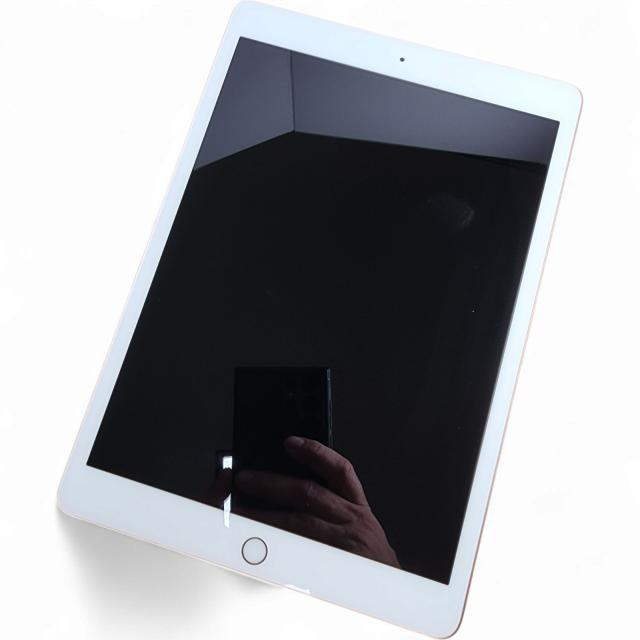phone good: (53, 0, 593, 630)
